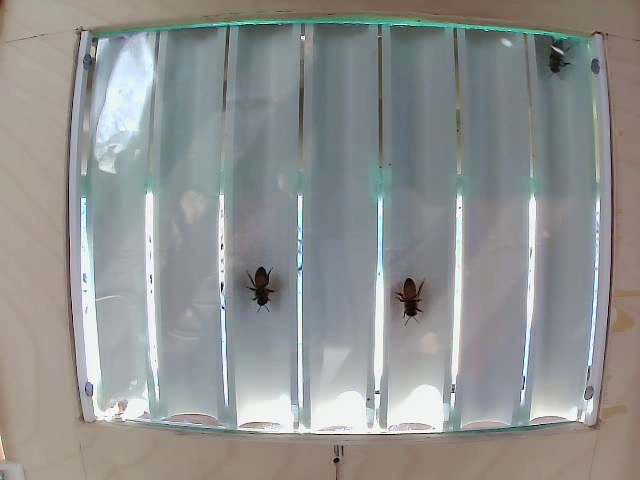bee: (394, 273, 432, 323), (242, 265, 280, 309), (537, 40, 574, 85)
